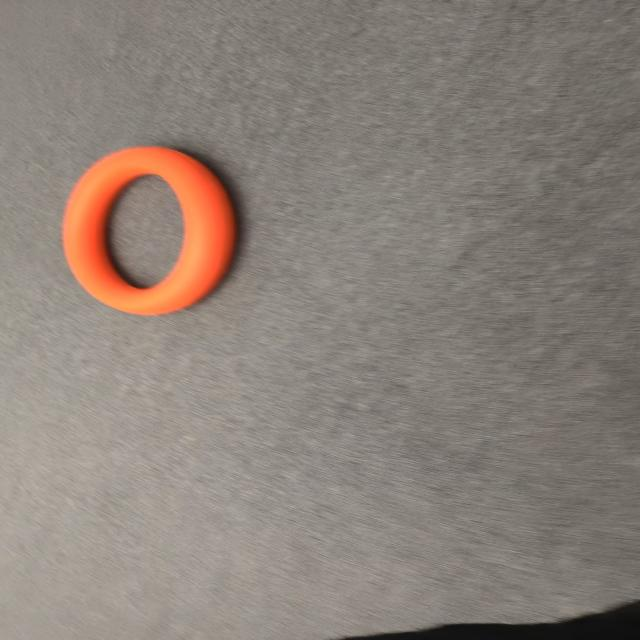note: (62, 142, 240, 306)
